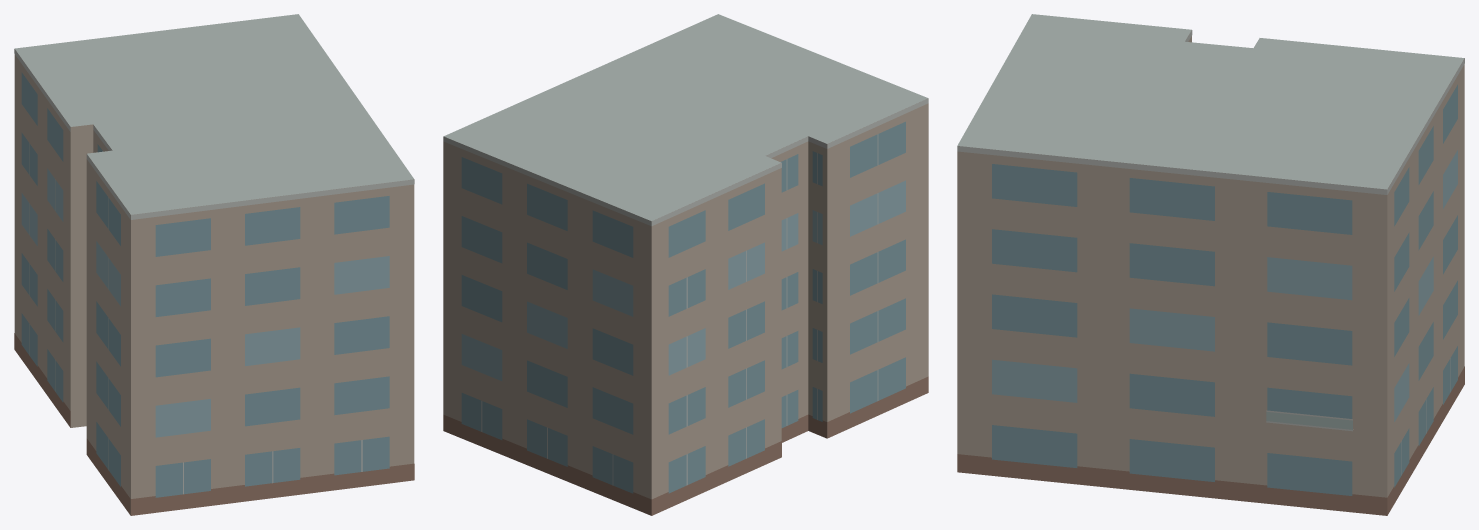
File: survey-upis-32744662.glb
3 renders of one model, left to right at view 1: azimuth 30°, elevation 25°; view 2: azimuth 150°, elevation 25°; view 3: azimuth 270°, elevation 25°, orthographic. The views are drawn at different scales.
Parts seen in each view (by area): view 1: survey-upis-32744662.tmp; view 2: survey-upis-32744662.tmp; view 3: survey-upis-32744662.tmp.
Part boxes in pixels (x1,y1,x2,y2): survey-upis-32744662.tmp: (14, 14, 414, 515); survey-upis-32744662.tmp: (443, 14, 928, 515); survey-upis-32744662.tmp: (957, 14, 1464, 515).
Bounding box in the file's own units: 16.38 × 14.2 × 20.02.
